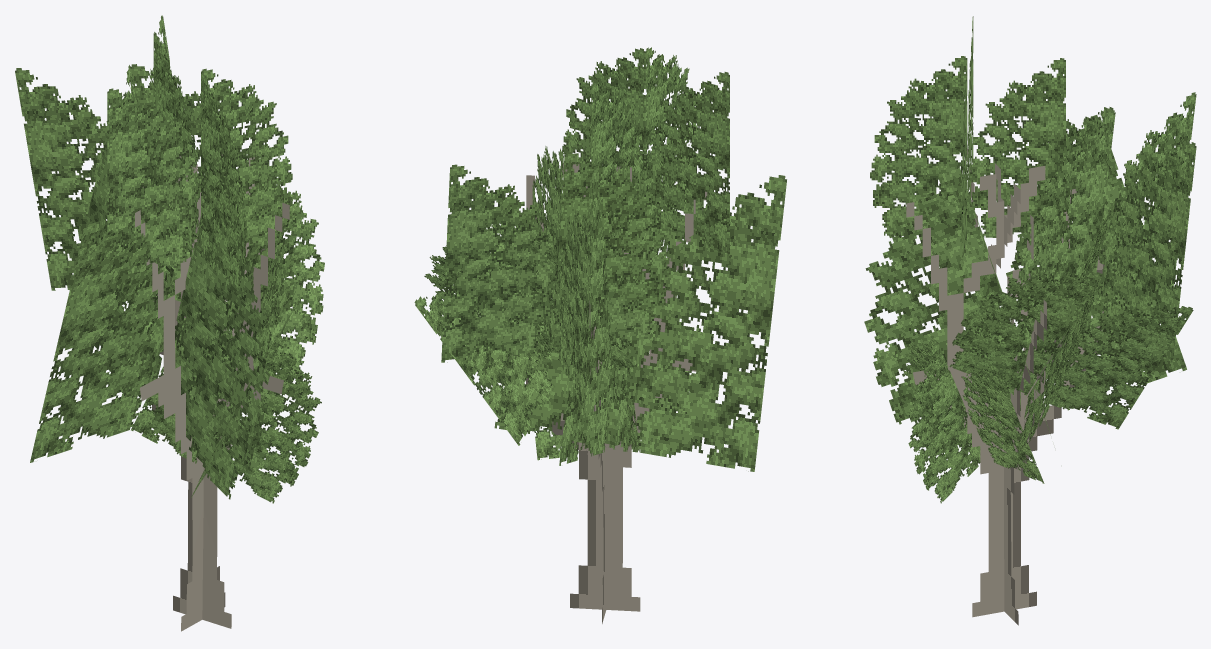
The model's file is uvmd-0041.glb.
The picture shows the model from 3 angles, left to right: view 1: azimuth 30°, elevation 25°; view 2: azimuth 150°, elevation 25°; view 3: azimuth 270°, elevation 25°; orthographic projection. The views are drawn at different scales.
Parts seen in each view (by area): view 1: uvmd-0041; view 2: uvmd-0041; view 3: uvmd-0041.
Part boxes in pixels (x1=…): uvmd-0041: x1=15, y1=15, x2=324, y2=631; uvmd-0041: x1=414, y1=47, x2=786, y2=623; uvmd-0041: x1=864, y1=16, x2=1196, y2=625.
Bounding box in the file's own units: 162 × 253 × 160.
Materials: 2 (2 with a texture image).
